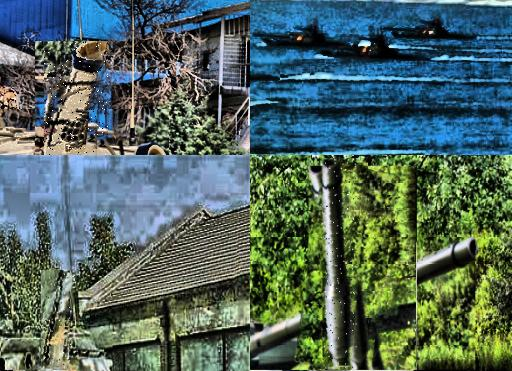tanks: (324, 160, 357, 369), (48, 43, 109, 156), (43, 274, 75, 371), (256, 25, 345, 49), (336, 35, 415, 60), (388, 19, 473, 39)
